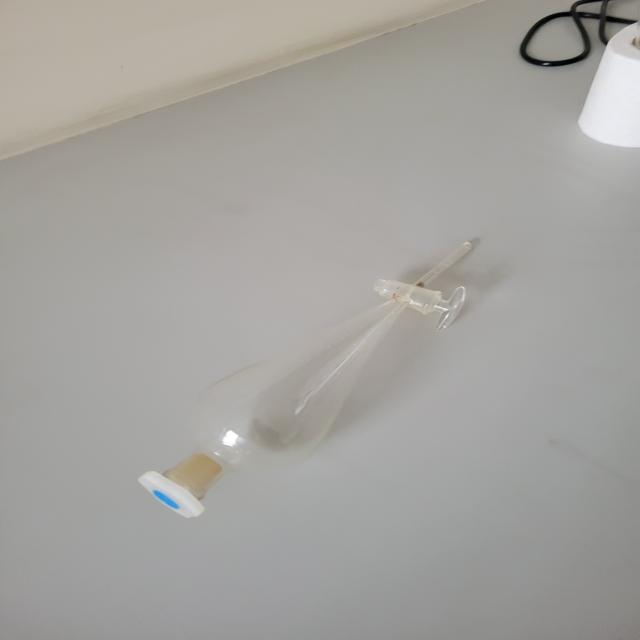Separating_Funnel: (89, 202, 514, 535)
